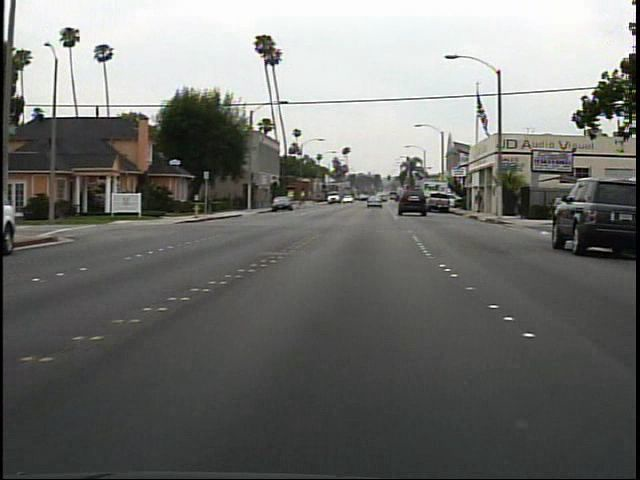person: (470, 187, 487, 217)
